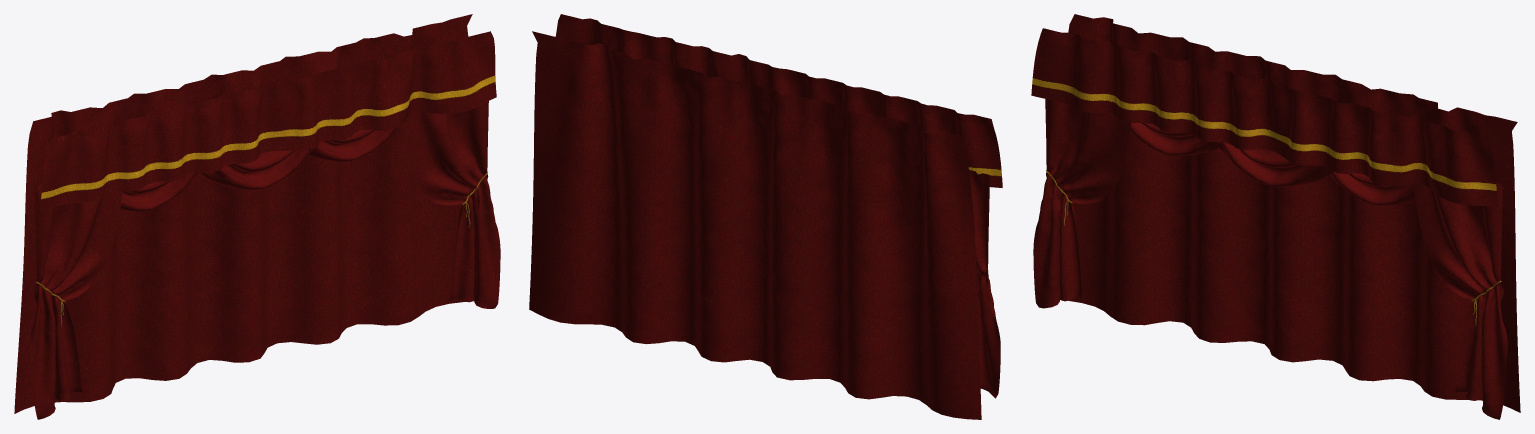
The model's file is Modeling_Curtain.FBX.
3 views of the same model, side by side, from view 1: azimuth 30°, elevation 25°; view 2: azimuth 150°, elevation 25°; view 3: azimuth 330°, elevation 25° (orthographic). The views are drawn at different scales.
Visible parts, largest first — view 1: Modeling_Curtain; view 2: Modeling_Curtain; view 3: Modeling_Curtain.
Part boxes in pixels (left/top/right/bottom): Modeling_Curtain: left=14, top=14, right=500, bottom=419; Modeling_Curtain: left=529, top=14, right=1002, bottom=419; Modeling_Curtain: left=1031, top=14, right=1520, bottom=419.
Bounding box in the file's own units: 1170 × 693 × 155.
